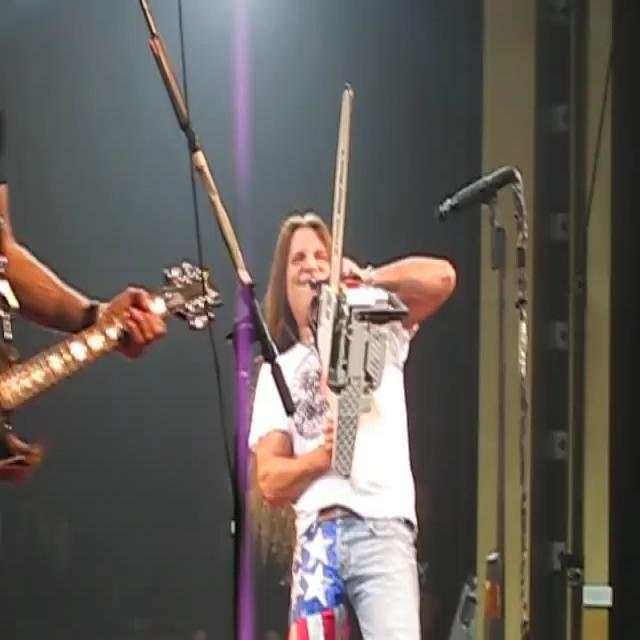Chainsaw: (297, 74, 419, 488)
